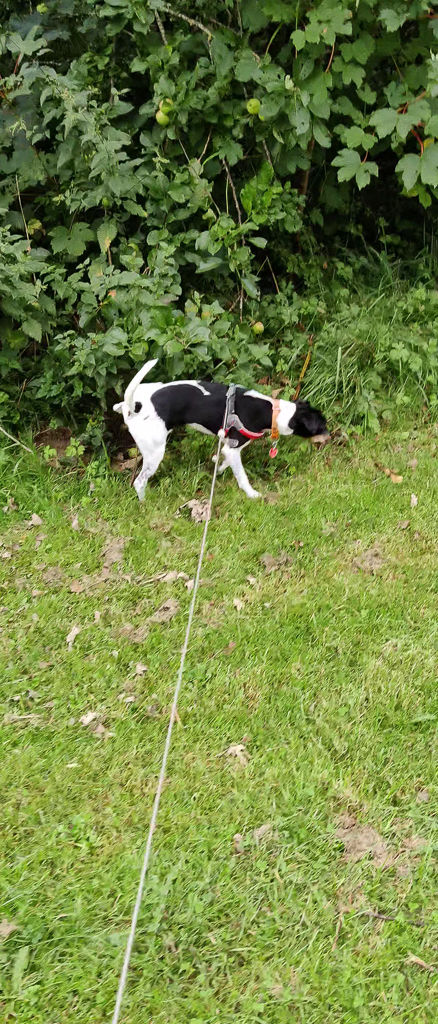Dog: (95, 348, 341, 516)
